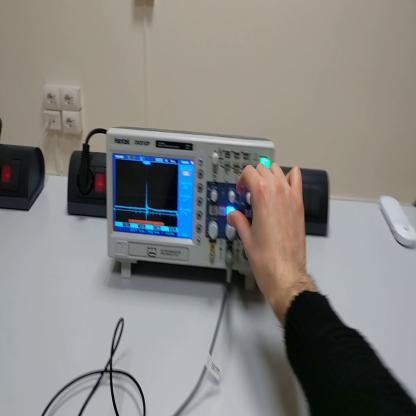hand: (228, 157, 310, 301)
oscilloscope: (108, 128, 279, 297)
socket: (2, 143, 47, 217), (68, 151, 108, 221)
